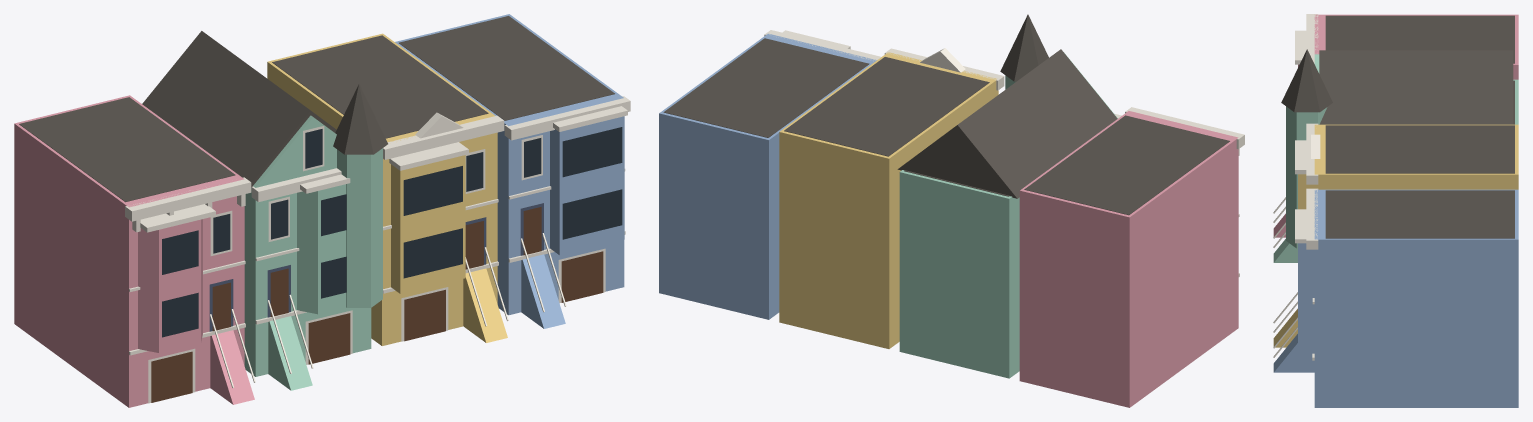
Rendered from row-houses.glb.
3 renders of one model, left to right at view 1: azimuth 30°, elevation 25°; view 2: azimuth 150°, elevation 25°; view 3: azimuth 270°, elevation 25°, orthographic. The views are drawn at different scales.
Visible parts, largest first — view 1: row_house_a_body, row_house_b_body, row_house_d_body, row_house_c_body; view 2: row_house_a_body, row_house_b_body, row_house_c_body, row_house_d_body; view 3: row_house_d_body, row_house_b_body, row_house_c_body, row_house_a_body.
Part boxes in pixels (x1=…): row_house_a_body: x1=14, y1=95, x2=255, y2=407; row_house_b_body: x1=142, y1=31, x2=387, y2=390; row_house_d_body: x1=395, y1=14, x2=630, y2=328; row_house_c_body: x1=267, y1=33, x2=508, y2=345; row_house_a_body: x1=1019, y1=107, x2=1244, y2=407; row_house_b_body: x1=897, y1=14, x2=1121, y2=378; row_house_c_body: x1=779, y1=48, x2=1004, y2=348; row_house_d_body: x1=659, y1=30, x2=880, y2=319; row_house_d_body: x1=1273, y1=188, x2=1518, y2=407; row_house_b_body: x1=1273, y1=49, x2=1518, y2=262; row_house_c_body: x1=1273, y1=123, x2=1518, y2=347; row_house_a_body: x1=1273, y1=14, x2=1518, y2=237.
Bounding box in the file's own units: 27.6 × 14.4 × 13.23.
